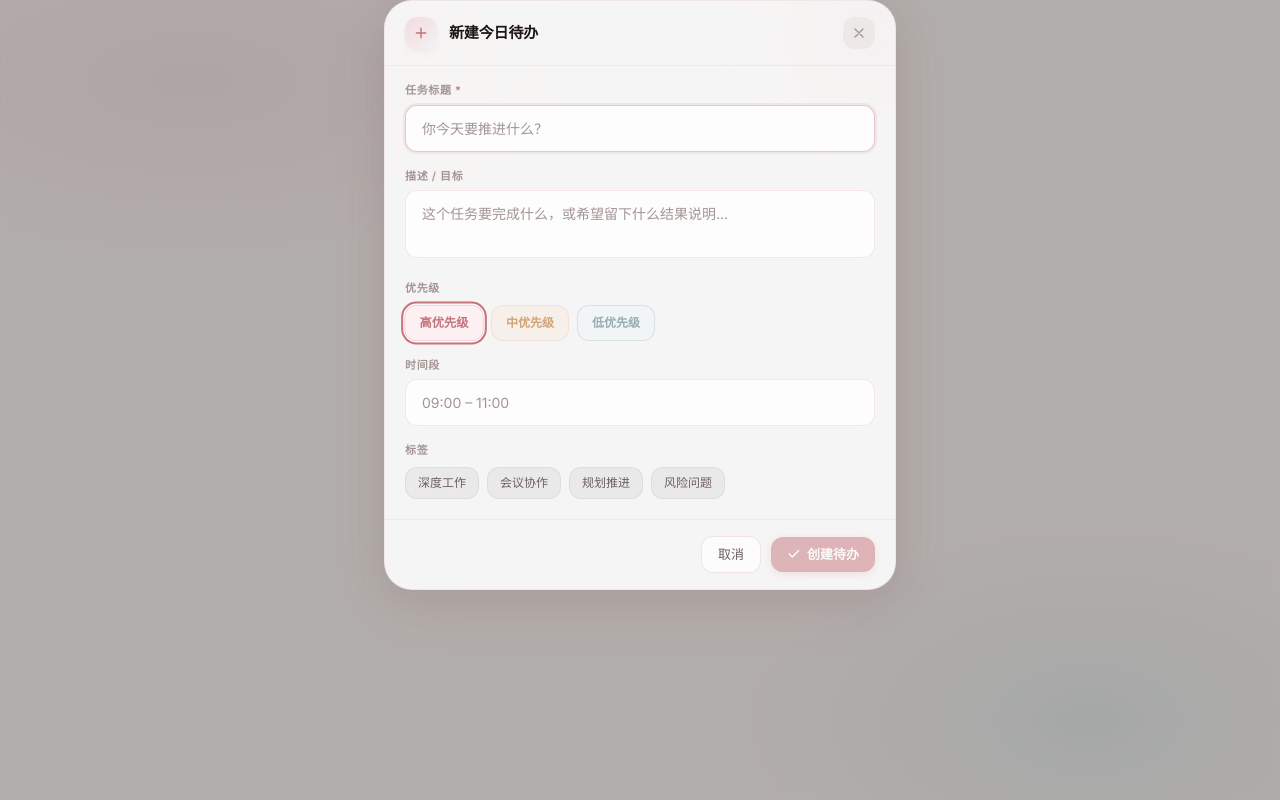
Test case: failed submit › shows inline error and does not close modal on addTask rejection
Type "写周报" into the field with placeholder "你今天要推进什么？".
click(640, 128); type("写周报")  # box [405,104,875,152]
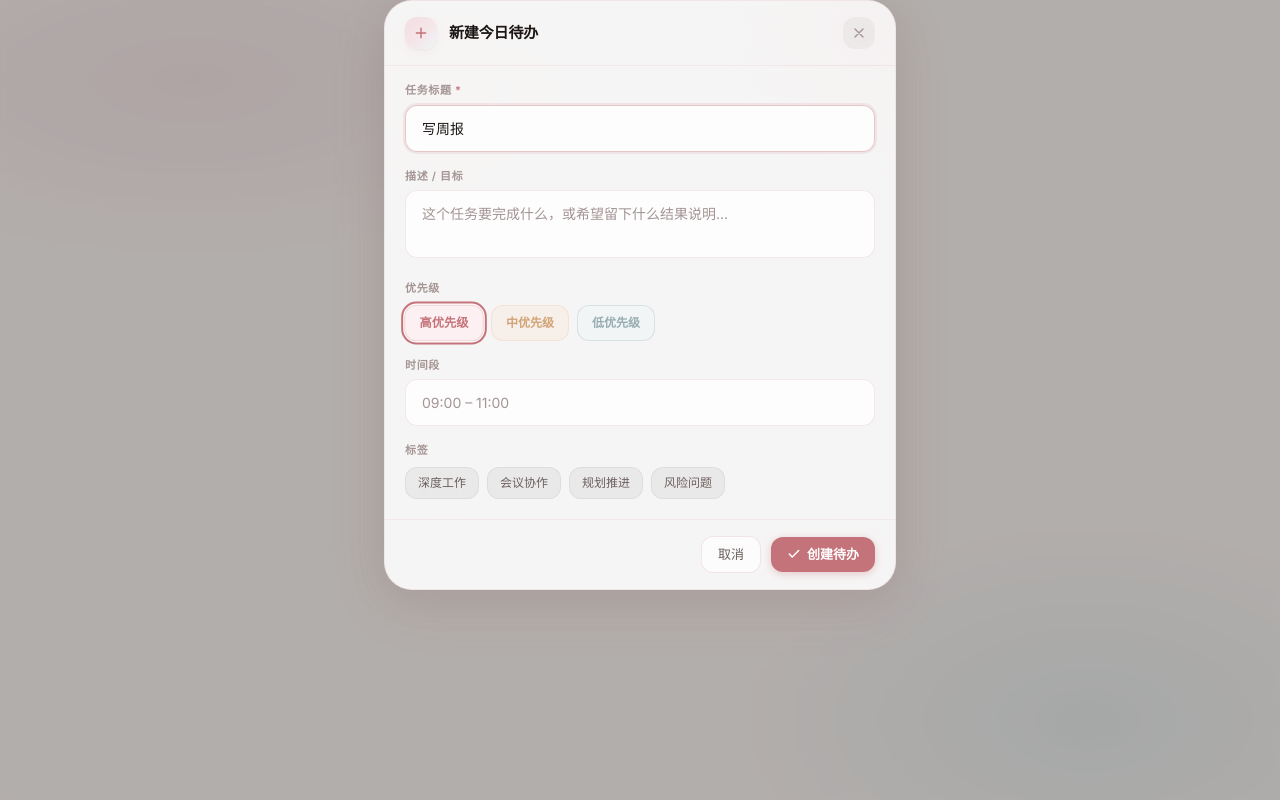
Click the button "创建待办".
click(823, 554)  # box [771,536,875,572]
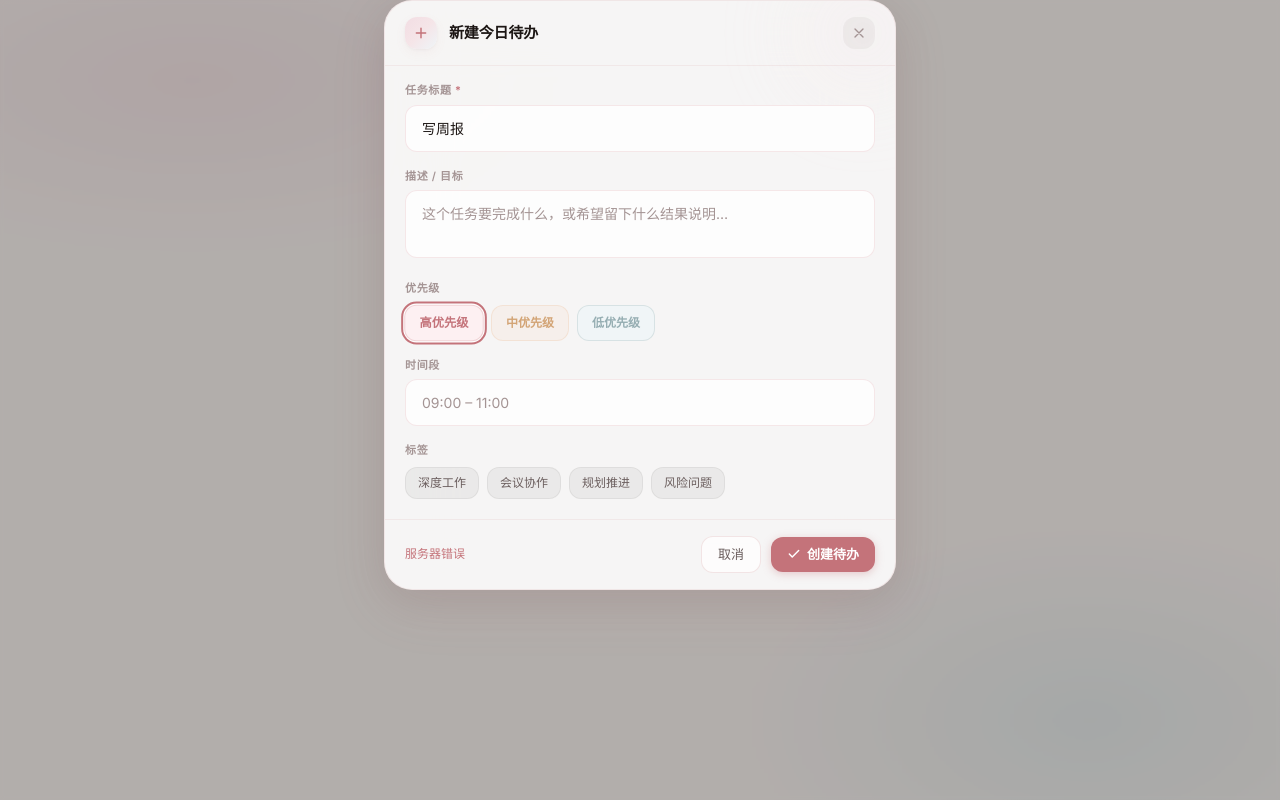
Check: the text "服务器错误" is shown, box [405,545,465,563]
